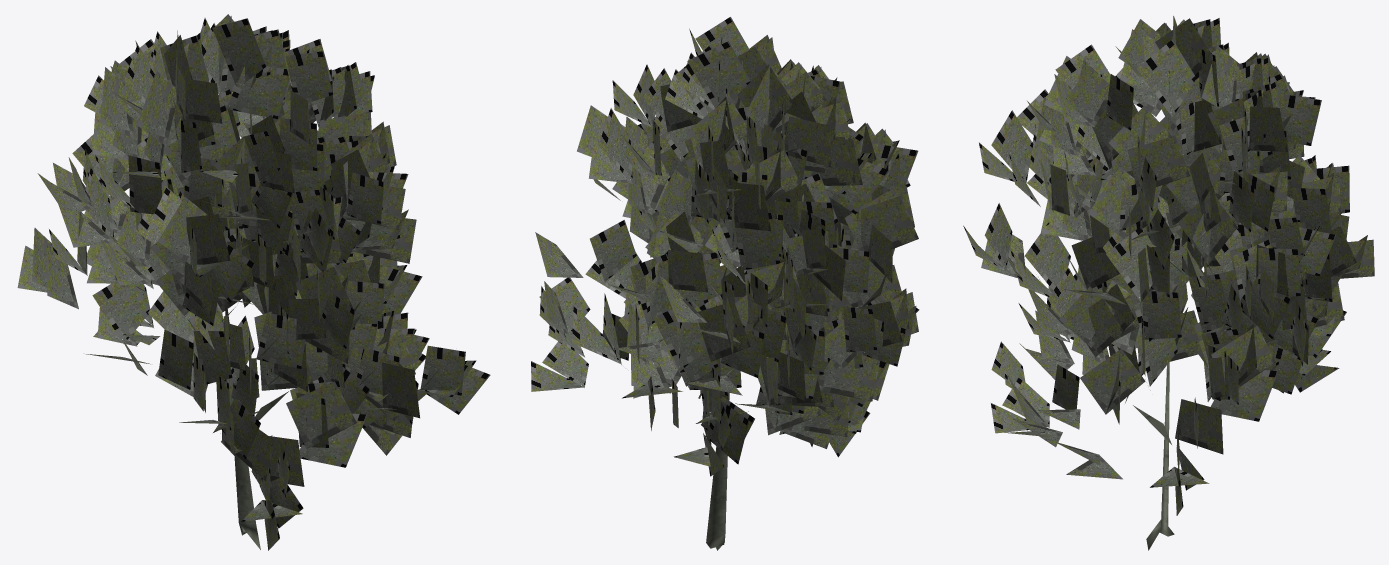
Rendered from temperate-beech-a-map.glb.
3 renders of one model, left to right at view 1: azimuth 30°, elevation 25°; view 2: azimuth 150°, elevation 25°; view 3: azimuth 270°, elevation 25°, orthographic. The views are drawn at different scales.
Visible parts, largest first — view 1: american_beech_a_LOD0; view 2: american_beech_a_LOD0; view 3: american_beech_a_LOD0.
Part boxes in pixels (box(x1,y1,x2,y2)): american_beech_a_LOD0: box(17, 14, 490, 550); american_beech_a_LOD0: box(531, 17, 919, 550); american_beech_a_LOD0: box(963, 16, 1374, 550).
Bounding box in the file's own units: 13.61 × 18.55 × 13.94.
1 material, 1 textured.
